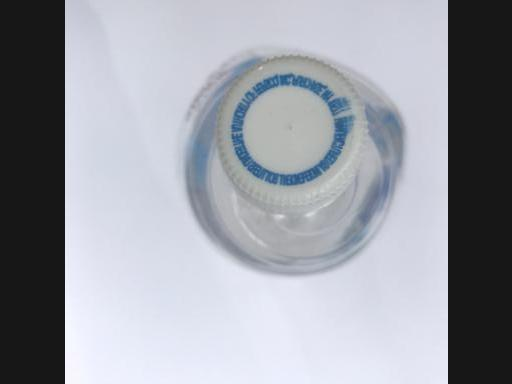bottle: (174, 43, 416, 284)
